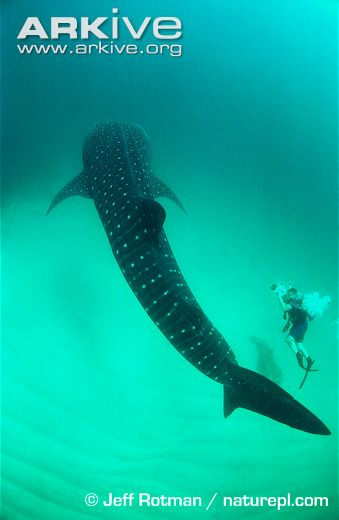shark: (29, 103, 334, 450)
